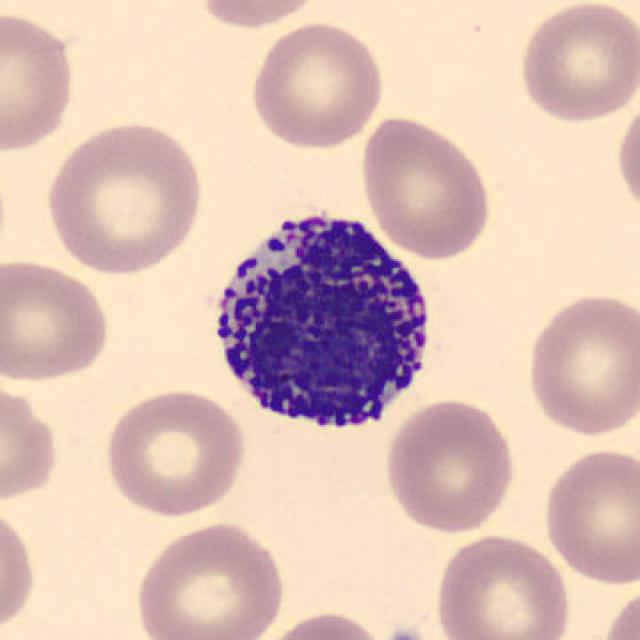basophil: (214, 213, 431, 424)
rbc: (46, 124, 202, 276), (386, 389, 518, 532), (369, 118, 498, 261), (130, 524, 284, 640), (105, 388, 247, 513), (253, 19, 381, 154), (527, 296, 640, 435), (0, 257, 116, 384), (541, 449, 640, 591), (440, 536, 572, 638), (526, 5, 640, 116), (0, 12, 73, 164), (0, 384, 64, 504), (274, 569, 382, 640), (181, 0, 317, 39), (0, 510, 39, 629), (594, 584, 640, 640), (617, 116, 640, 196)
